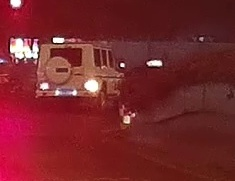L_light: (38, 81, 50, 90)
R_light: (84, 80, 98, 91)
T_light: (61, 48, 70, 51)
night-right: (35, 43, 99, 114)
